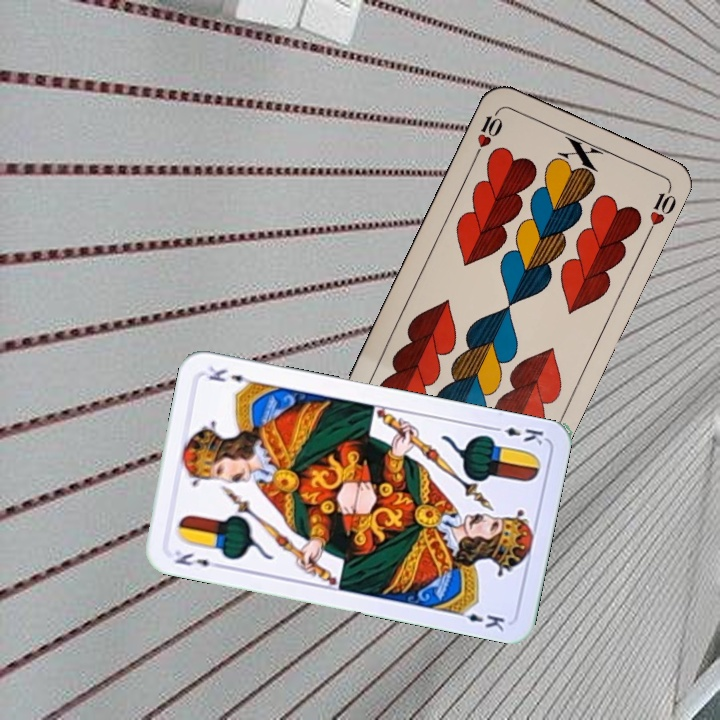EK: (170, 547, 225, 574), (487, 422, 546, 447)
H10: (471, 104, 506, 160)
